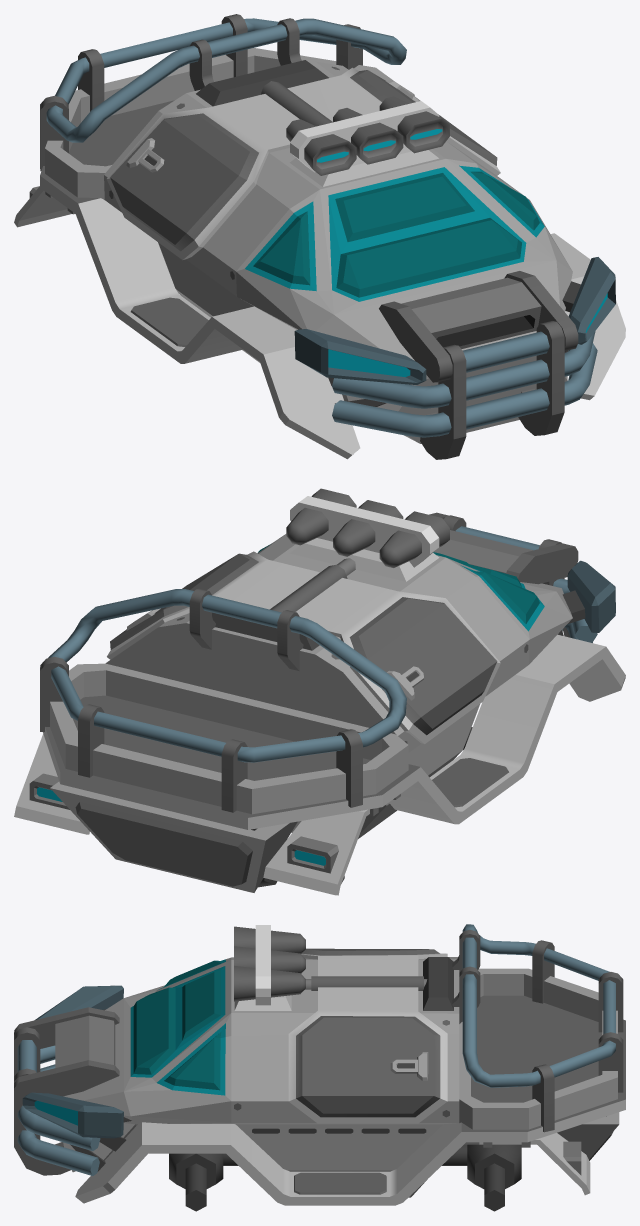
Rendered from transport_003.fbx.
The picture shows the model from 3 angles, top to bottom: view 1: azimuth 30°, elevation 25°; view 2: azimuth 150°, elevation 25°; view 3: azimuth 270°, elevation 25°; orthographic projection. The views are drawn at different scales.
Parts seen in each view (by area): view 1: transport_003; view 2: transport_003; view 3: transport_003.
Part boxes in pixels (left/top/right/bottom): transport_003: left=14, top=14, right=625, bottom=459; transport_003: left=14, top=488, right=625, bottom=895; transport_003: left=14, top=924, right=625, bottom=1211.
Bounding box in the file's own units: 313 × 562 × 237.
